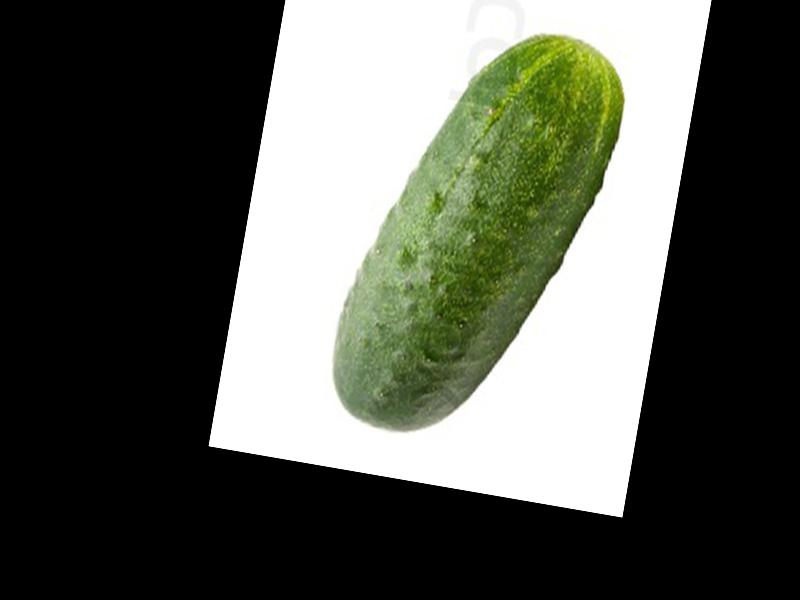Cucumber: (320, 5, 630, 459)
